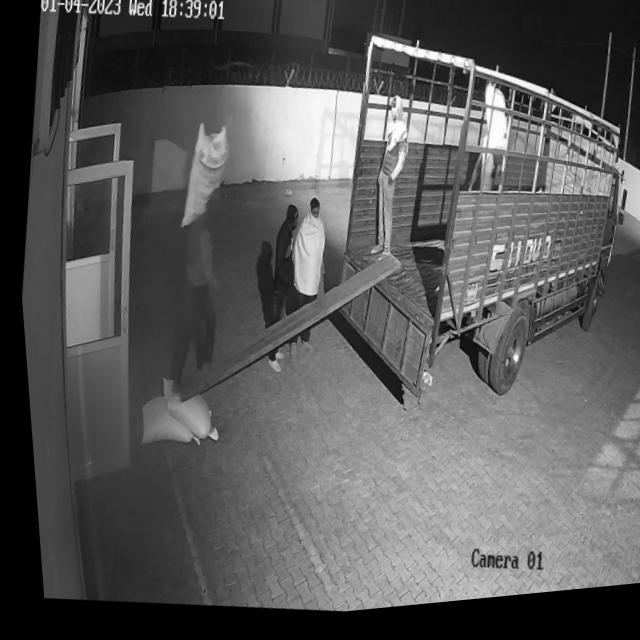sack: (169, 121, 234, 239), (148, 374, 219, 448), (130, 392, 200, 455), (473, 88, 515, 162)
